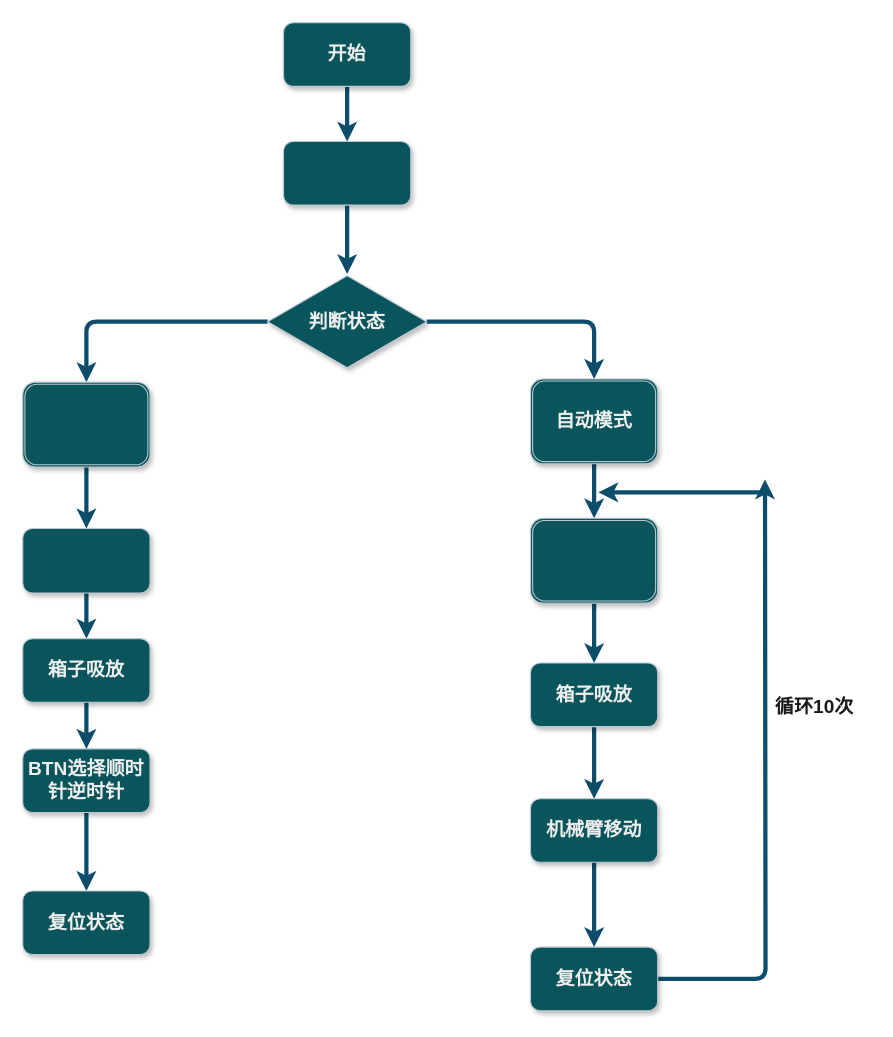
The diagram is 893 pixels wide and 1037 high, and some of its shapes have lost their labels. Each missing label, with the centre of its shape:
rec_Char（）判断颜色: (594,562)
SW 选择机械臂: (86,561)
初始化端口: (347,174)
手动模式: (86,425)
